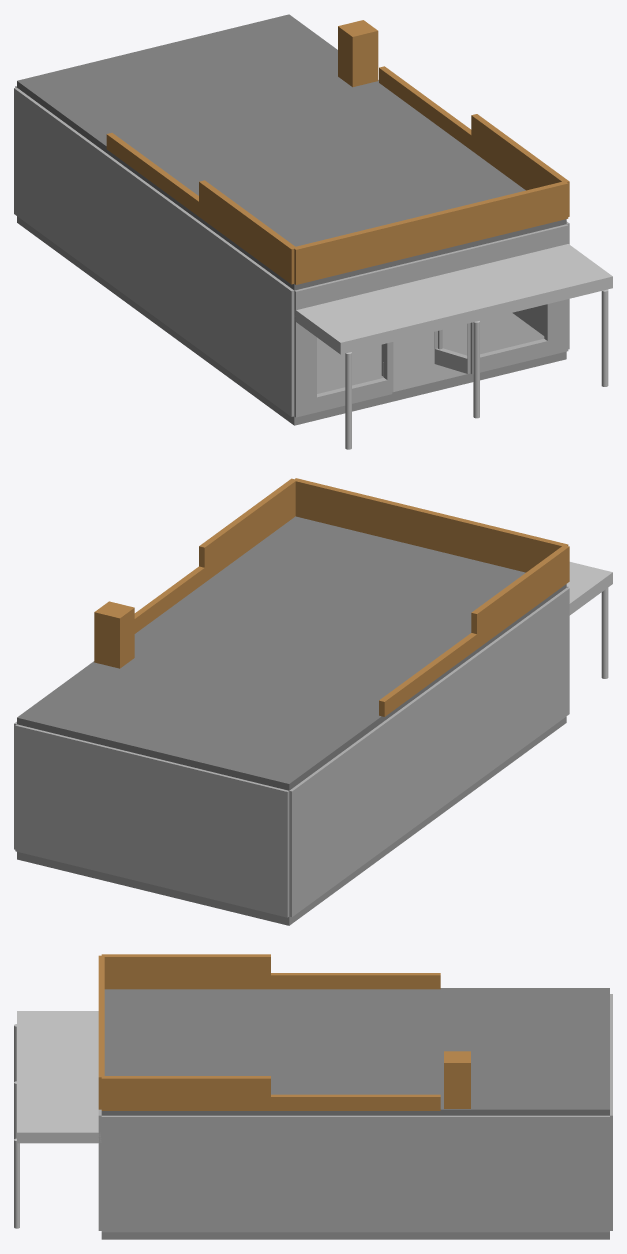
File: building_iteration_020.glb
3 renders of one model, top to bottom at view 1: azimuth 30°, elevation 25°; view 2: azimuth 150°, elevation 25°; view 3: azimuth 270°, elevation 25°, orthographic. The views are drawn at different scales.
Visible parts, largest first — view 1: Roof, Wall_Left, Canopy_Roof, Wall_Front, Foundation, Parapet_Front, Parapet_Left_Front, Parapet_Right_Front, Chimney, Parapet_Right_Middle, Parapet_Left_Middle, Alcove_Wall_Right (+4 smaller); view 2: Roof, Wall_Left, Wall_Rear, Parapet_Front, Foundation, Parapet_Left_Front, Parapet_Right_Front, Chimney, Parapet_Left_Middle, Canopy_Roof, Parapet_Right_Middle, Canopy_Post_1; view 3: Wall_Right, Roof, Canopy_Roof, Parapet_Left_Front, Parapet_Right_Front, Foundation, Parapet_Left_Middle, Parapet_Right_Middle, Chimney, Parapet_Front, Wall_Rear, Canopy_Post_3 (+1 smaller).
Boxes of the visible parts, x1,y1,x2,y2 form: Roof: (17, 14, 566, 290); Wall_Left: (14, 87, 294, 416); Canopy_Roof: (294, 244, 612, 354); Wall_Front: (294, 224, 568, 417); Foundation: (17, 216, 566, 425); Parapet_Front: (294, 182, 568, 284); Parapet_Left_Front: (199, 180, 296, 284); Parapet_Right_Front: (471, 114, 569, 216); Chimney: (338, 20, 378, 87); Parapet_Right_Middle: (379, 66, 471, 149); Parapet_Left_Middle: (106, 133, 198, 216); Alcove_Wall_Right: (434, 323, 470, 373); Roof: (17, 516, 566, 790); Wall_Left: (289, 588, 569, 916); Wall_Rear: (15, 724, 289, 917); Parapet_Front: (295, 478, 568, 572); Foundation: (17, 716, 566, 925); Parapet_Left_Front: (471, 545, 569, 648); Parapet_Right_Front: (199, 478, 296, 582); Chimney: (94, 601, 134, 668); Parapet_Left_Middle: (379, 633, 476, 716); Canopy_Roof: (566, 562, 612, 615); Parapet_Right_Middle: (134, 566, 204, 633); Canopy_Post_1: (601, 588, 608, 678); Wall_Right: (101, 1115, 609, 1232); Roof: (101, 988, 609, 1115); Canopy_Roof: (17, 1011, 101, 1143); Parapet_Left_Front: (101, 954, 270, 989); Parapet_Right_Front: (101, 1076, 270, 1110); Foundation: (101, 1232, 609, 1239); Parapet_Left_Middle: (271, 973, 440, 989); Parapet_Right_Middle: (271, 1094, 440, 1110); Chimney: (444, 1051, 470, 1108); Parapet_Front: (98, 955, 104, 1109); Wall_Rear: (610, 994, 612, 1230); Canopy_Post_3: (14, 1138, 19, 1228).
Size of the model in its own units: 8.68 by 5.73 by 17.68.
